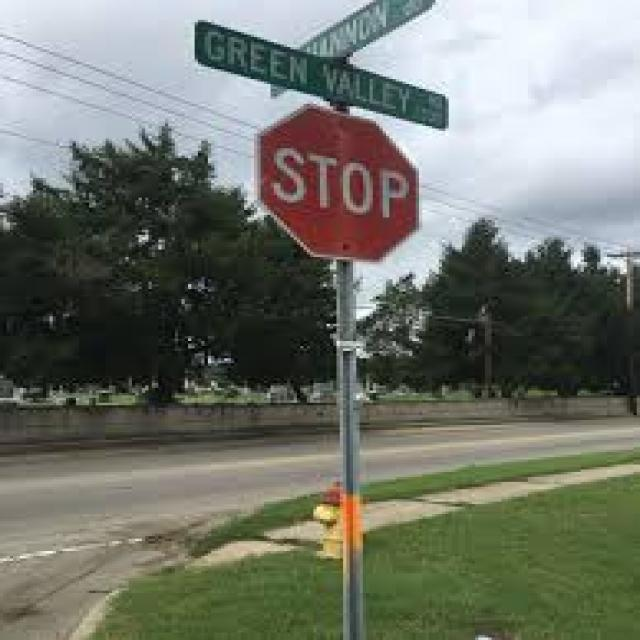stop-sign: (240, 102, 451, 252)
